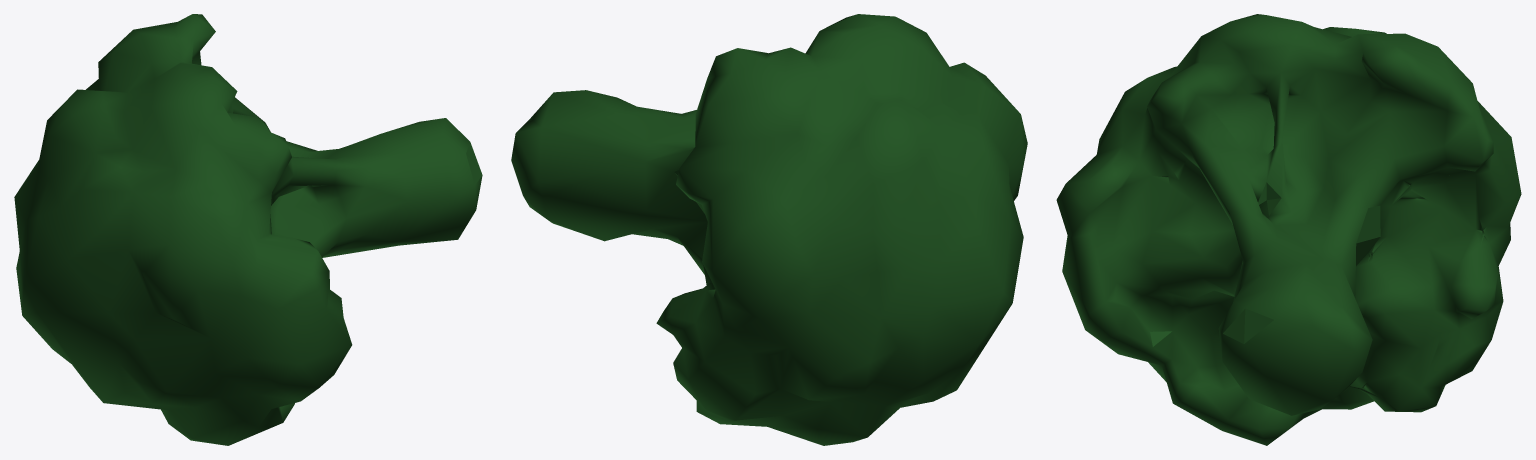
File: broculo.fbx
The picture shows the model from 3 angles, left to right: view 1: azimuth 30°, elevation 25°; view 2: azimuth 150°, elevation 25°; view 3: azimuth 270°, elevation 25°; orthographic projection. The views are drawn at different scales.
Parts seen in each view (by area): view 1: 49_broccoli; view 2: 49_broccoli; view 3: 49_broccoli.
Boxes of the visible parts, x1,y1,x2,y2 form: 49_broccoli: (14, 14, 482, 445); 49_broccoli: (511, 14, 1027, 445); 49_broccoli: (1056, 14, 1521, 445).
Bounding box in the file's own units: 106 × 86.23 × 90.63.
